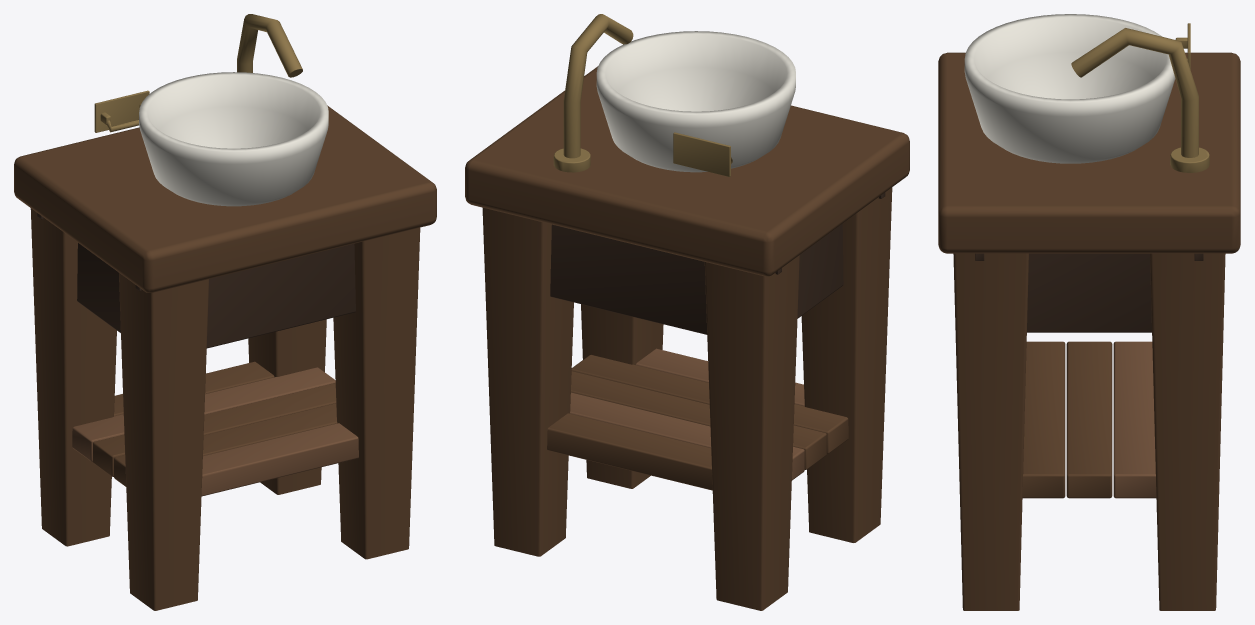
Rendered from kominka-washstand-small-01.glb.
3 renders of one model, left to right at view 1: azimuth 30°, elevation 25°; view 2: azimuth 150°, elevation 25°; view 3: azimuth 270°, elevation 25°, orthographic. The views are drawn at different scales.
Visible parts, largest first — view 1: kominka-washstand-small-01; view 2: kominka-washstand-small-01; view 3: kominka-washstand-small-01.
Part boxes in pixels (left/top/right/bottom): kominka-washstand-small-01: left=14, top=14, right=436, bottom=610; kominka-washstand-small-01: left=465, top=14, right=909, bottom=610; kominka-washstand-small-01: left=938, top=14, right=1240, bottom=610.
Bounding box in the file's own units: 0.5 × 0.8 × 0.4.
